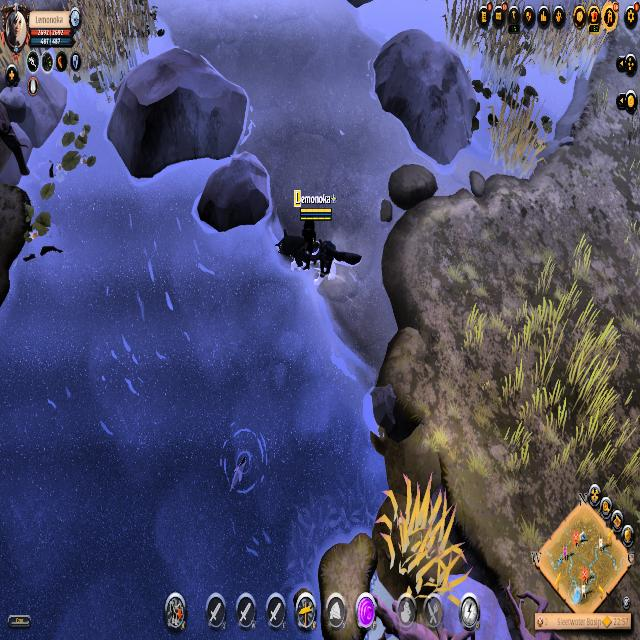fish: (219, 415, 272, 501)
